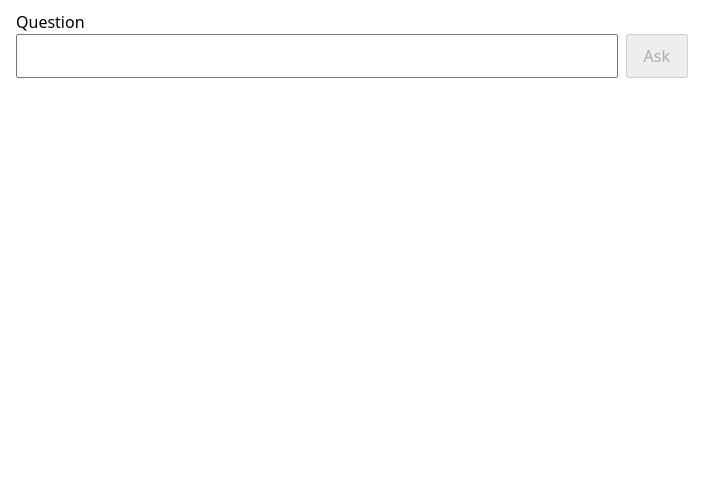
Test case: AskForm › renders the answer and each source
Type "What is alpha?" into the field labelled "Question". click: (317, 56)
box: left=16, top=34, right=618, bottom=78
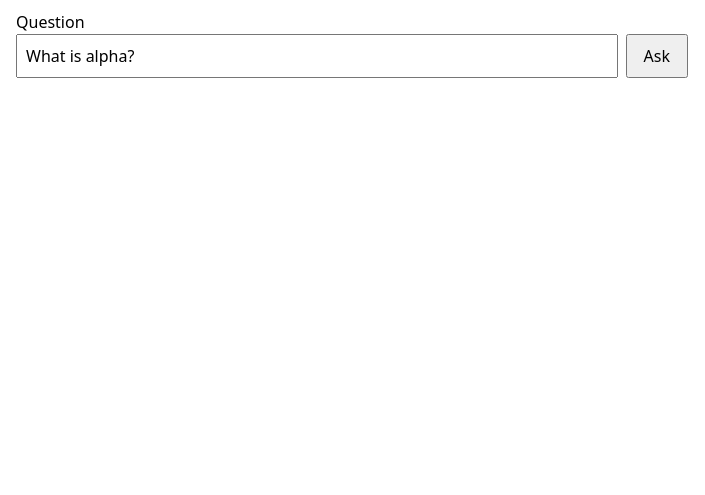
Click the button "Ask". click: click(657, 56)
box: left=626, top=34, right=688, bottom=78
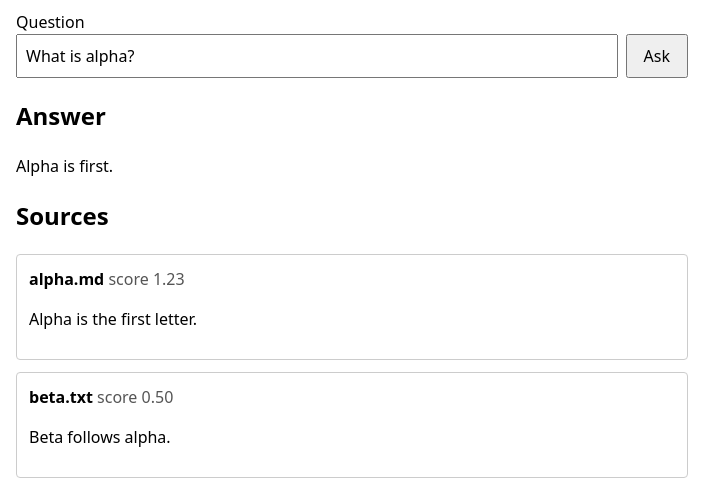
Result: the text "Alpha is first." is shown at left=16, top=155, right=113, bottom=177
Result: the heading "Sources" is shown at left=16, top=199, right=109, bottom=232
Result: the number of list items is 2 at left=16, top=254, right=688, bottom=360; left=16, top=372, right=688, bottom=478
